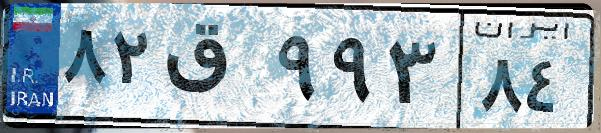2: (110, 28, 158, 98)
3: (385, 28, 445, 110)
4: (525, 38, 570, 115)
8: (57, 26, 110, 100), (475, 38, 525, 113)
9: (270, 28, 330, 110), (330, 28, 385, 110)
ق: (158, 20, 270, 120)
